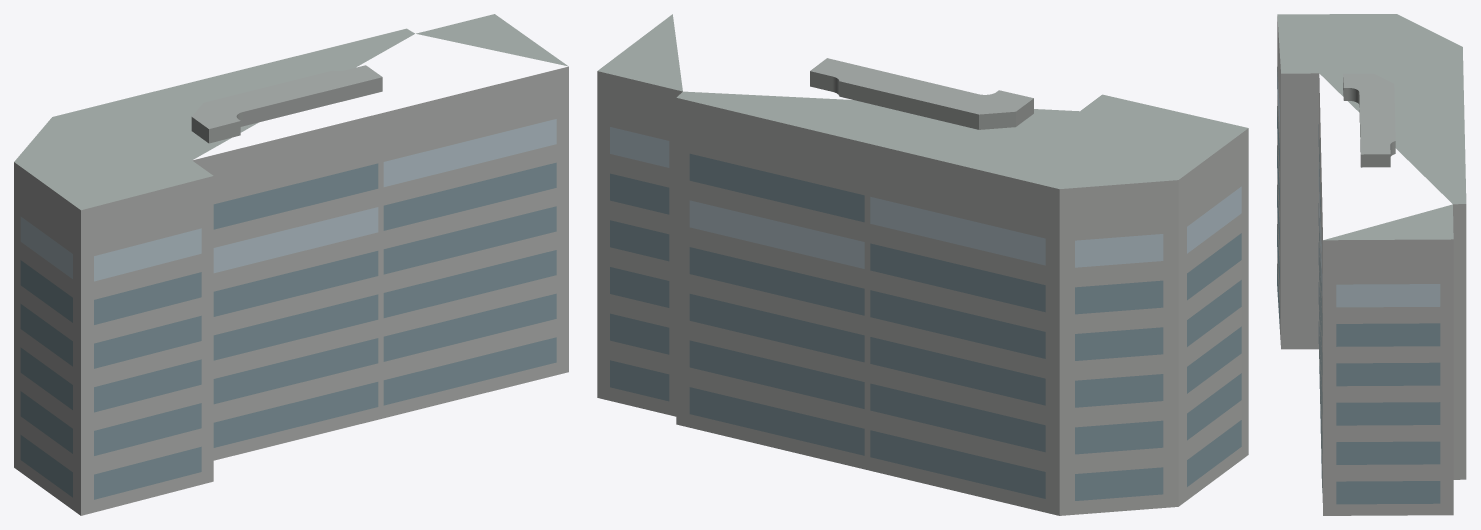
Rendered from named-apt-195ceb3c-ad9d-4f6f-a45e-059aae773af8.glb.
The picture shows the model from 3 angles, left to right: view 1: azimuth 30°, elevation 25°; view 2: azimuth 150°, elevation 25°; view 3: azimuth 270°, elevation 25°; orthographic projection. The views are drawn at different scales.
Parts seen in each view (by area): view 1: named-apt-195ceb3c-ad9d-4f6f-a45e-059aae773af8; view 2: named-apt-195ceb3c-ad9d-4f6f-a45e-059aae773af8; view 3: named-apt-195ceb3c-ad9d-4f6f-a45e-059aae773af8.
Boxes of the visible parts, x1,y1,x2,y2 form: named-apt-195ceb3c-ad9d-4f6f-a45e-059aae773af8: [14, 14, 568, 515]; named-apt-195ceb3c-ad9d-4f6f-a45e-059aae773af8: [597, 14, 1248, 515]; named-apt-195ceb3c-ad9d-4f6f-a45e-059aae773af8: [1277, 14, 1466, 515].
Size of the model in its own units: 33.68 by 20 by 11.93.
